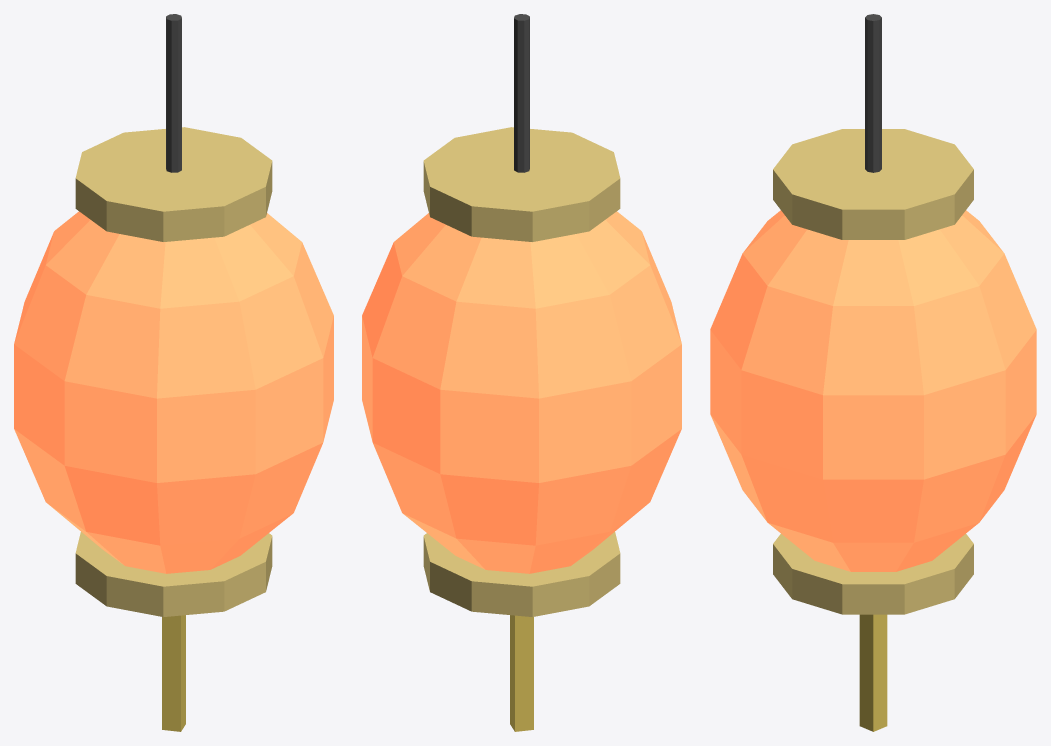
File: cn_lantern_hanging.glb
The picture shows the model from 3 angles, left to right: view 1: azimuth 30°, elevation 25°; view 2: azimuth 150°, elevation 25°; view 3: azimuth 270°, elevation 25°; orthographic projection.
Visible parts, largest first — view 1: cn_lantern_hanging; view 2: cn_lantern_hanging; view 3: cn_lantern_hanging.
Part boxes in pixels (box(x1,y1,x2,y2)): cn_lantern_hanging: box(14, 14, 333, 731); cn_lantern_hanging: box(362, 14, 681, 731); cn_lantern_hanging: box(710, 14, 1036, 731).
Bounding box in the file's own units: 0.5563 × 1.4 × 0.5849.
